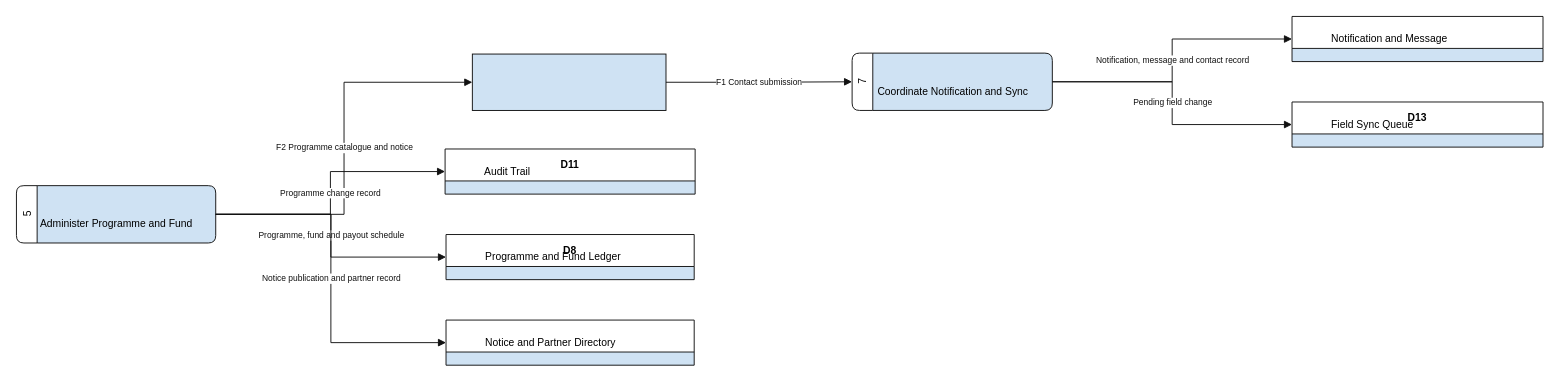
The diagram is 1559 pixels wide and 382 high, and some of its shapes have lost their labels. Each missing label, with the box of its shape:
D12: (1291, 16, 1543, 62)
D9: (445, 319, 694, 365)
E1 Public Visitor: (471, 53, 666, 110)
